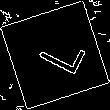L_NW: (25, 30, 85, 80)
